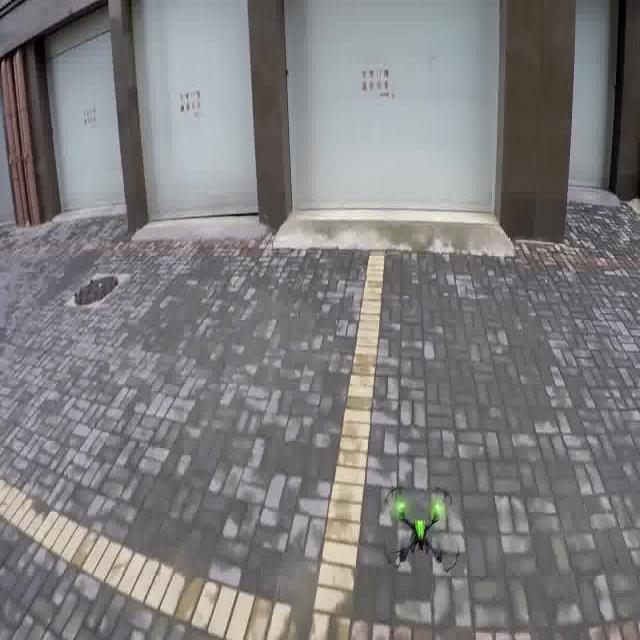drone: (376, 484, 464, 590)
